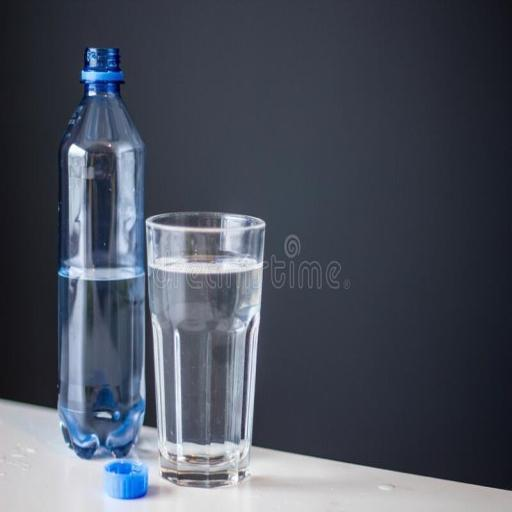bottle: (50, 28, 150, 472)
